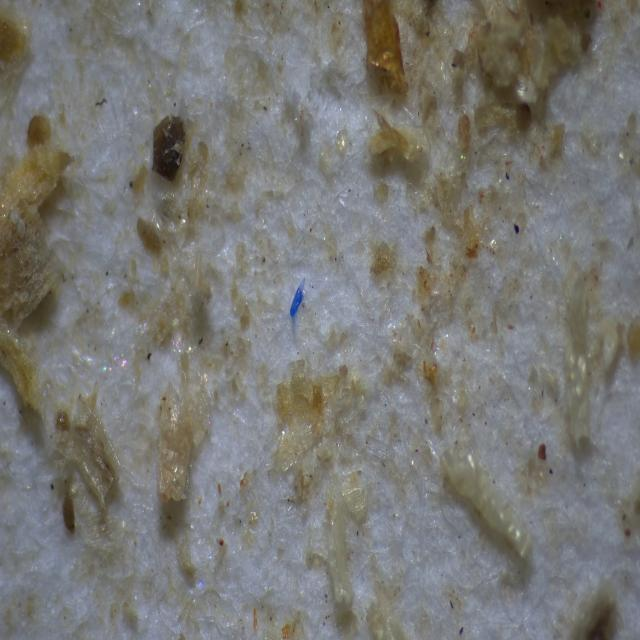microplastic: (283, 279, 312, 321)
